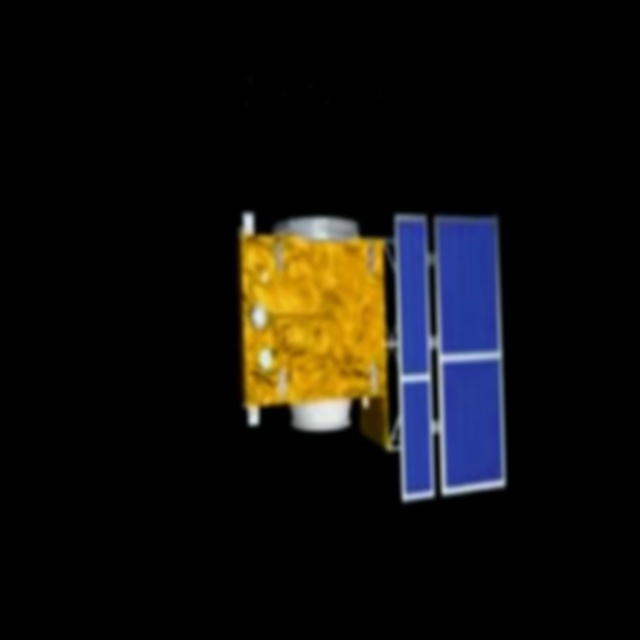medium_debris: (202, 120, 546, 584)
